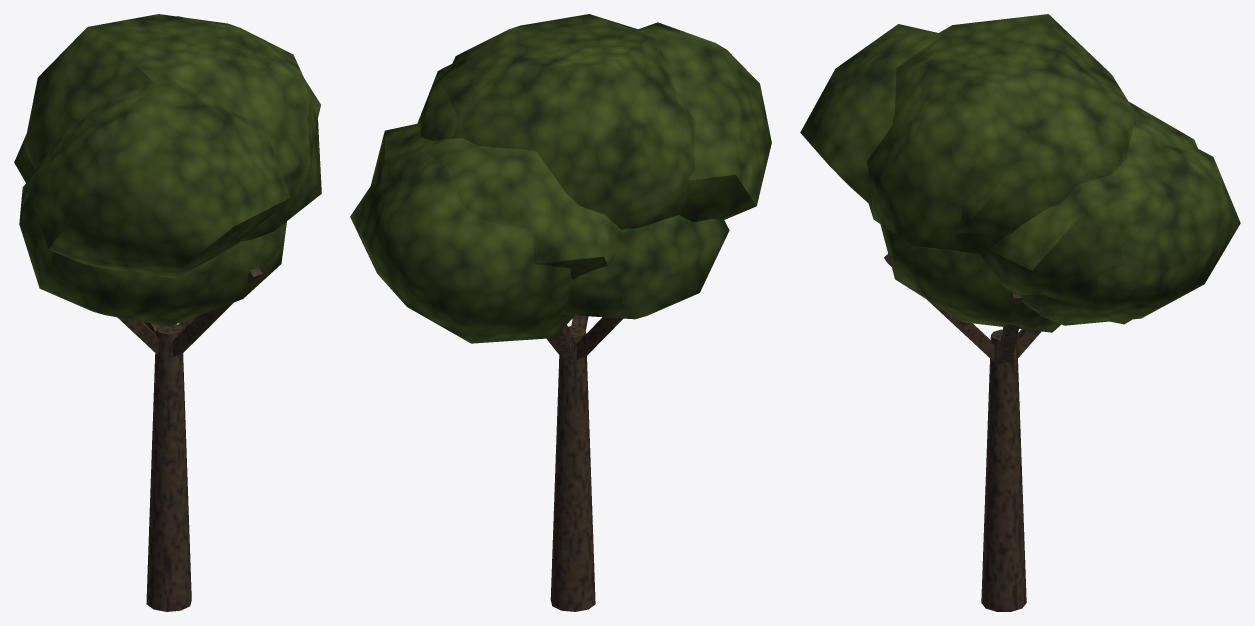
File: SM_Tree_Oak_B_LOD1.glb
3 views of the same model, side by side, from view 1: azimuth 30°, elevation 25°; view 2: azimuth 150°, elevation 25°; view 3: azimuth 270°, elevation 25° (orthographic). The views are drawn at different scales.
Parts seen in each view (by area): view 1: SM_Tree_Oak_B_LOD1; view 2: SM_Tree_Oak_B_LOD1; view 3: SM_Tree_Oak_B_LOD1.
Boxes of the visible parts, left/top/right/bottom form: SM_Tree_Oak_B_LOD1: left=14, top=14, right=321, bottom=611; SM_Tree_Oak_B_LOD1: left=350, top=14, right=771, bottom=611; SM_Tree_Oak_B_LOD1: left=800, top=14, right=1240, bottom=611.
Bounding box in the file's own units: 5.12 × 8.95 × 6.37.
Materials: 1 (1 with a texture image).
